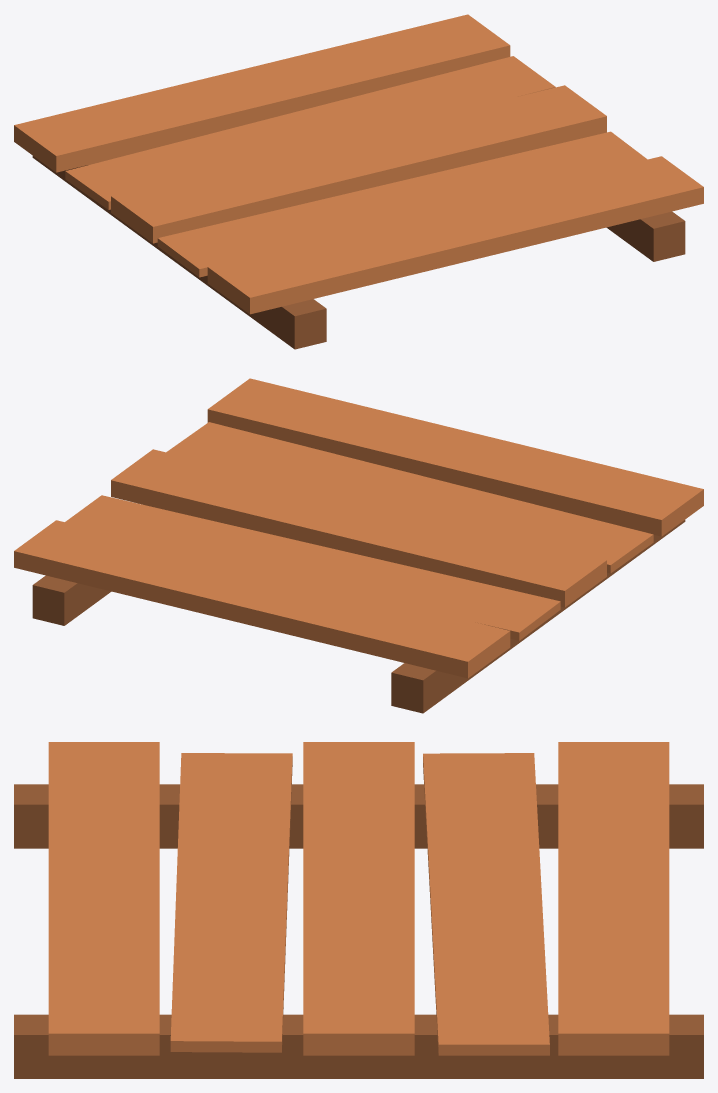
Rendered from platform-low-wood.glb.
The picture shows the model from 3 angles, top to bottom: view 1: azimuth 30°, elevation 25°; view 2: azimuth 150°, elevation 25°; view 3: azimuth 270°, elevation 25°; orthographic projection. The views are drawn at different scales.
Visible parts, largest first — view 1: \Platformer Kit\Models\GLTF format\platform.glb; view 2: \Platformer Kit\Models\GLTF format\platform.glb; view 3: \Platformer Kit\Models\GLTF format\platform.glb.
Part boxes in pixels (left/top/right/bottom): \Platformer Kit\Models\GLTF format\platform.glb: left=14, top=14, right=703, bottom=349; \Platformer Kit\Models\GLTF format\platform.glb: left=14, top=378, right=703, bottom=713; \Platformer Kit\Models\GLTF format\platform.glb: left=14, top=742, right=703, bottom=1078.
Size of the model in its own units: 1 by 0.105 by 1.
